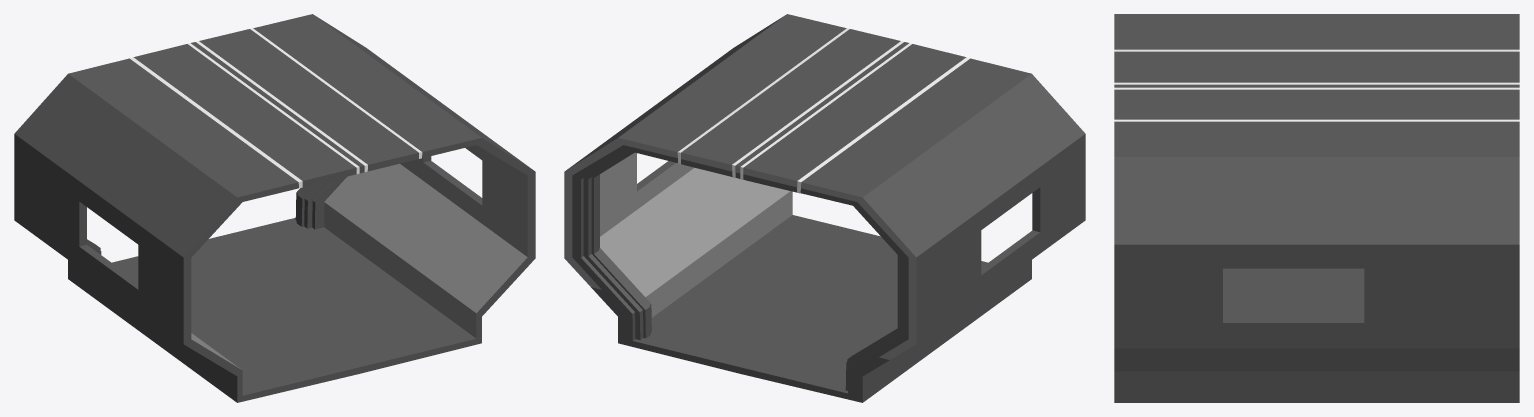
The model's file is Walls_Windows.fbx.
3 renders of one model, left to right at view 1: azimuth 30°, elevation 25°; view 2: azimuth 150°, elevation 25°; view 3: azimuth 270°, elevation 25°, orthographic. The views are drawn at different scales.
Visible parts, largest first — view 1: Walls_Windows; view 2: Walls_Windows; view 3: Walls_Windows.
Part boxes in pixels (bbox=[...]): Walls_Windows: bbox=[14, 14, 535, 402]; Walls_Windows: bbox=[564, 14, 1085, 402]; Walls_Windows: bbox=[1114, 14, 1519, 402].
Size of the model in its own units: 1483 by 834 by 1235.
